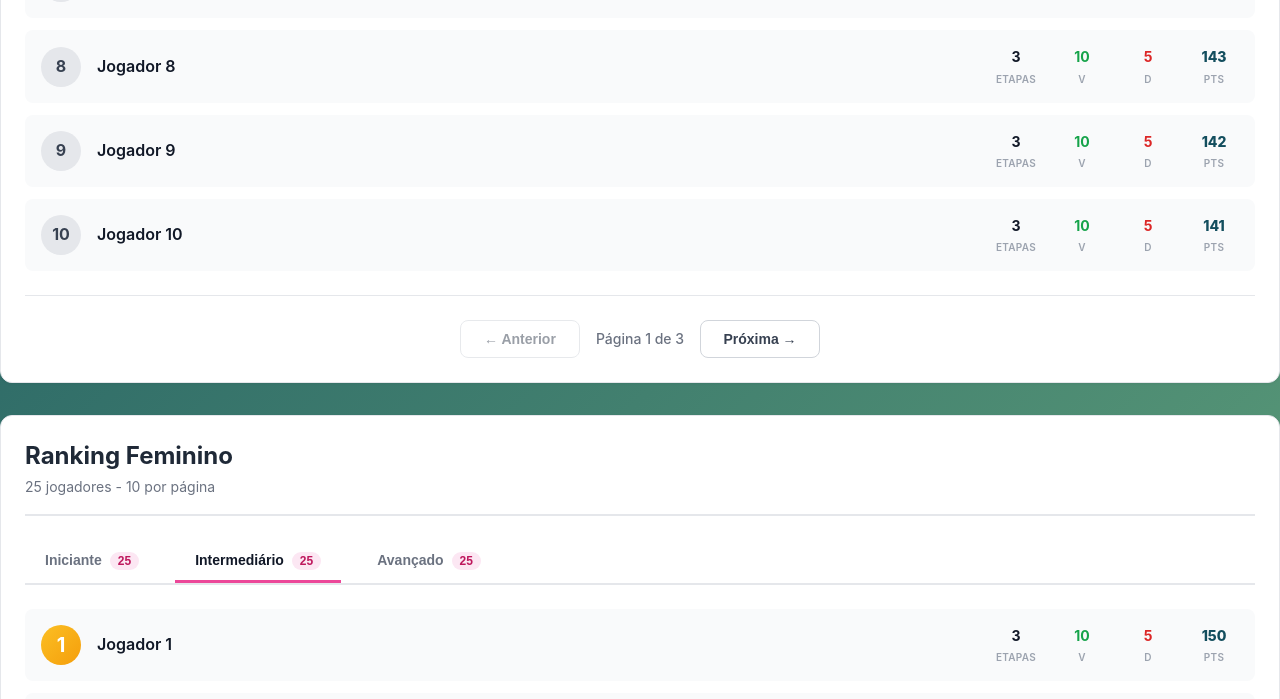
Test: RankingList › paginação › deve navegar para próxima página
(page scrolled)
Clicar em próxima
Click the button "Próxima →" at (760, 340), box [700,320,820,358]
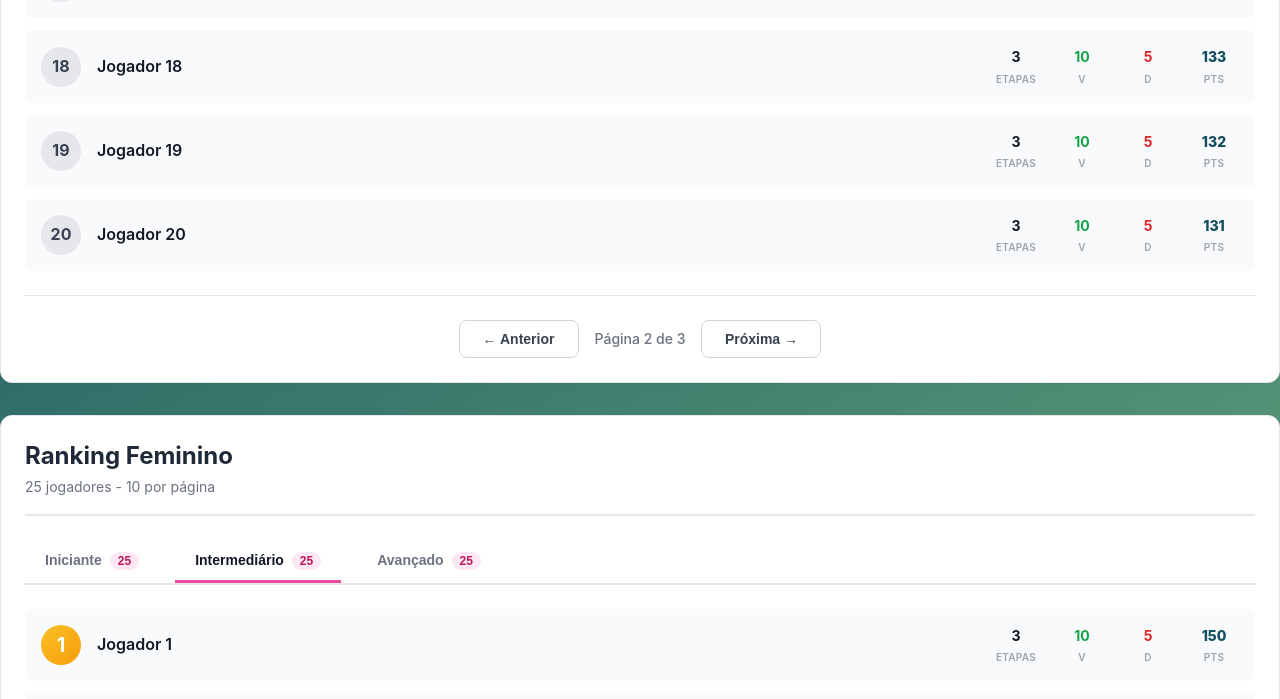
Expected: the text "Página 2 de 3" is shown, [594,328,686,351]
